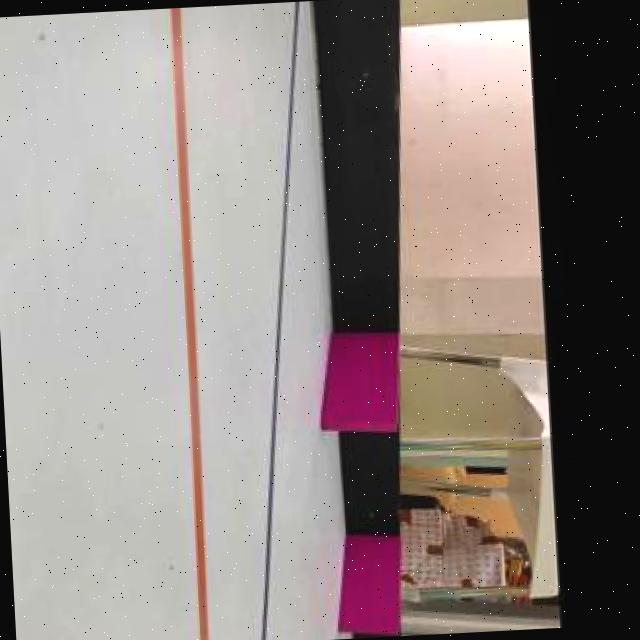xparking: (328, 340, 398, 430), (346, 541, 404, 636)
